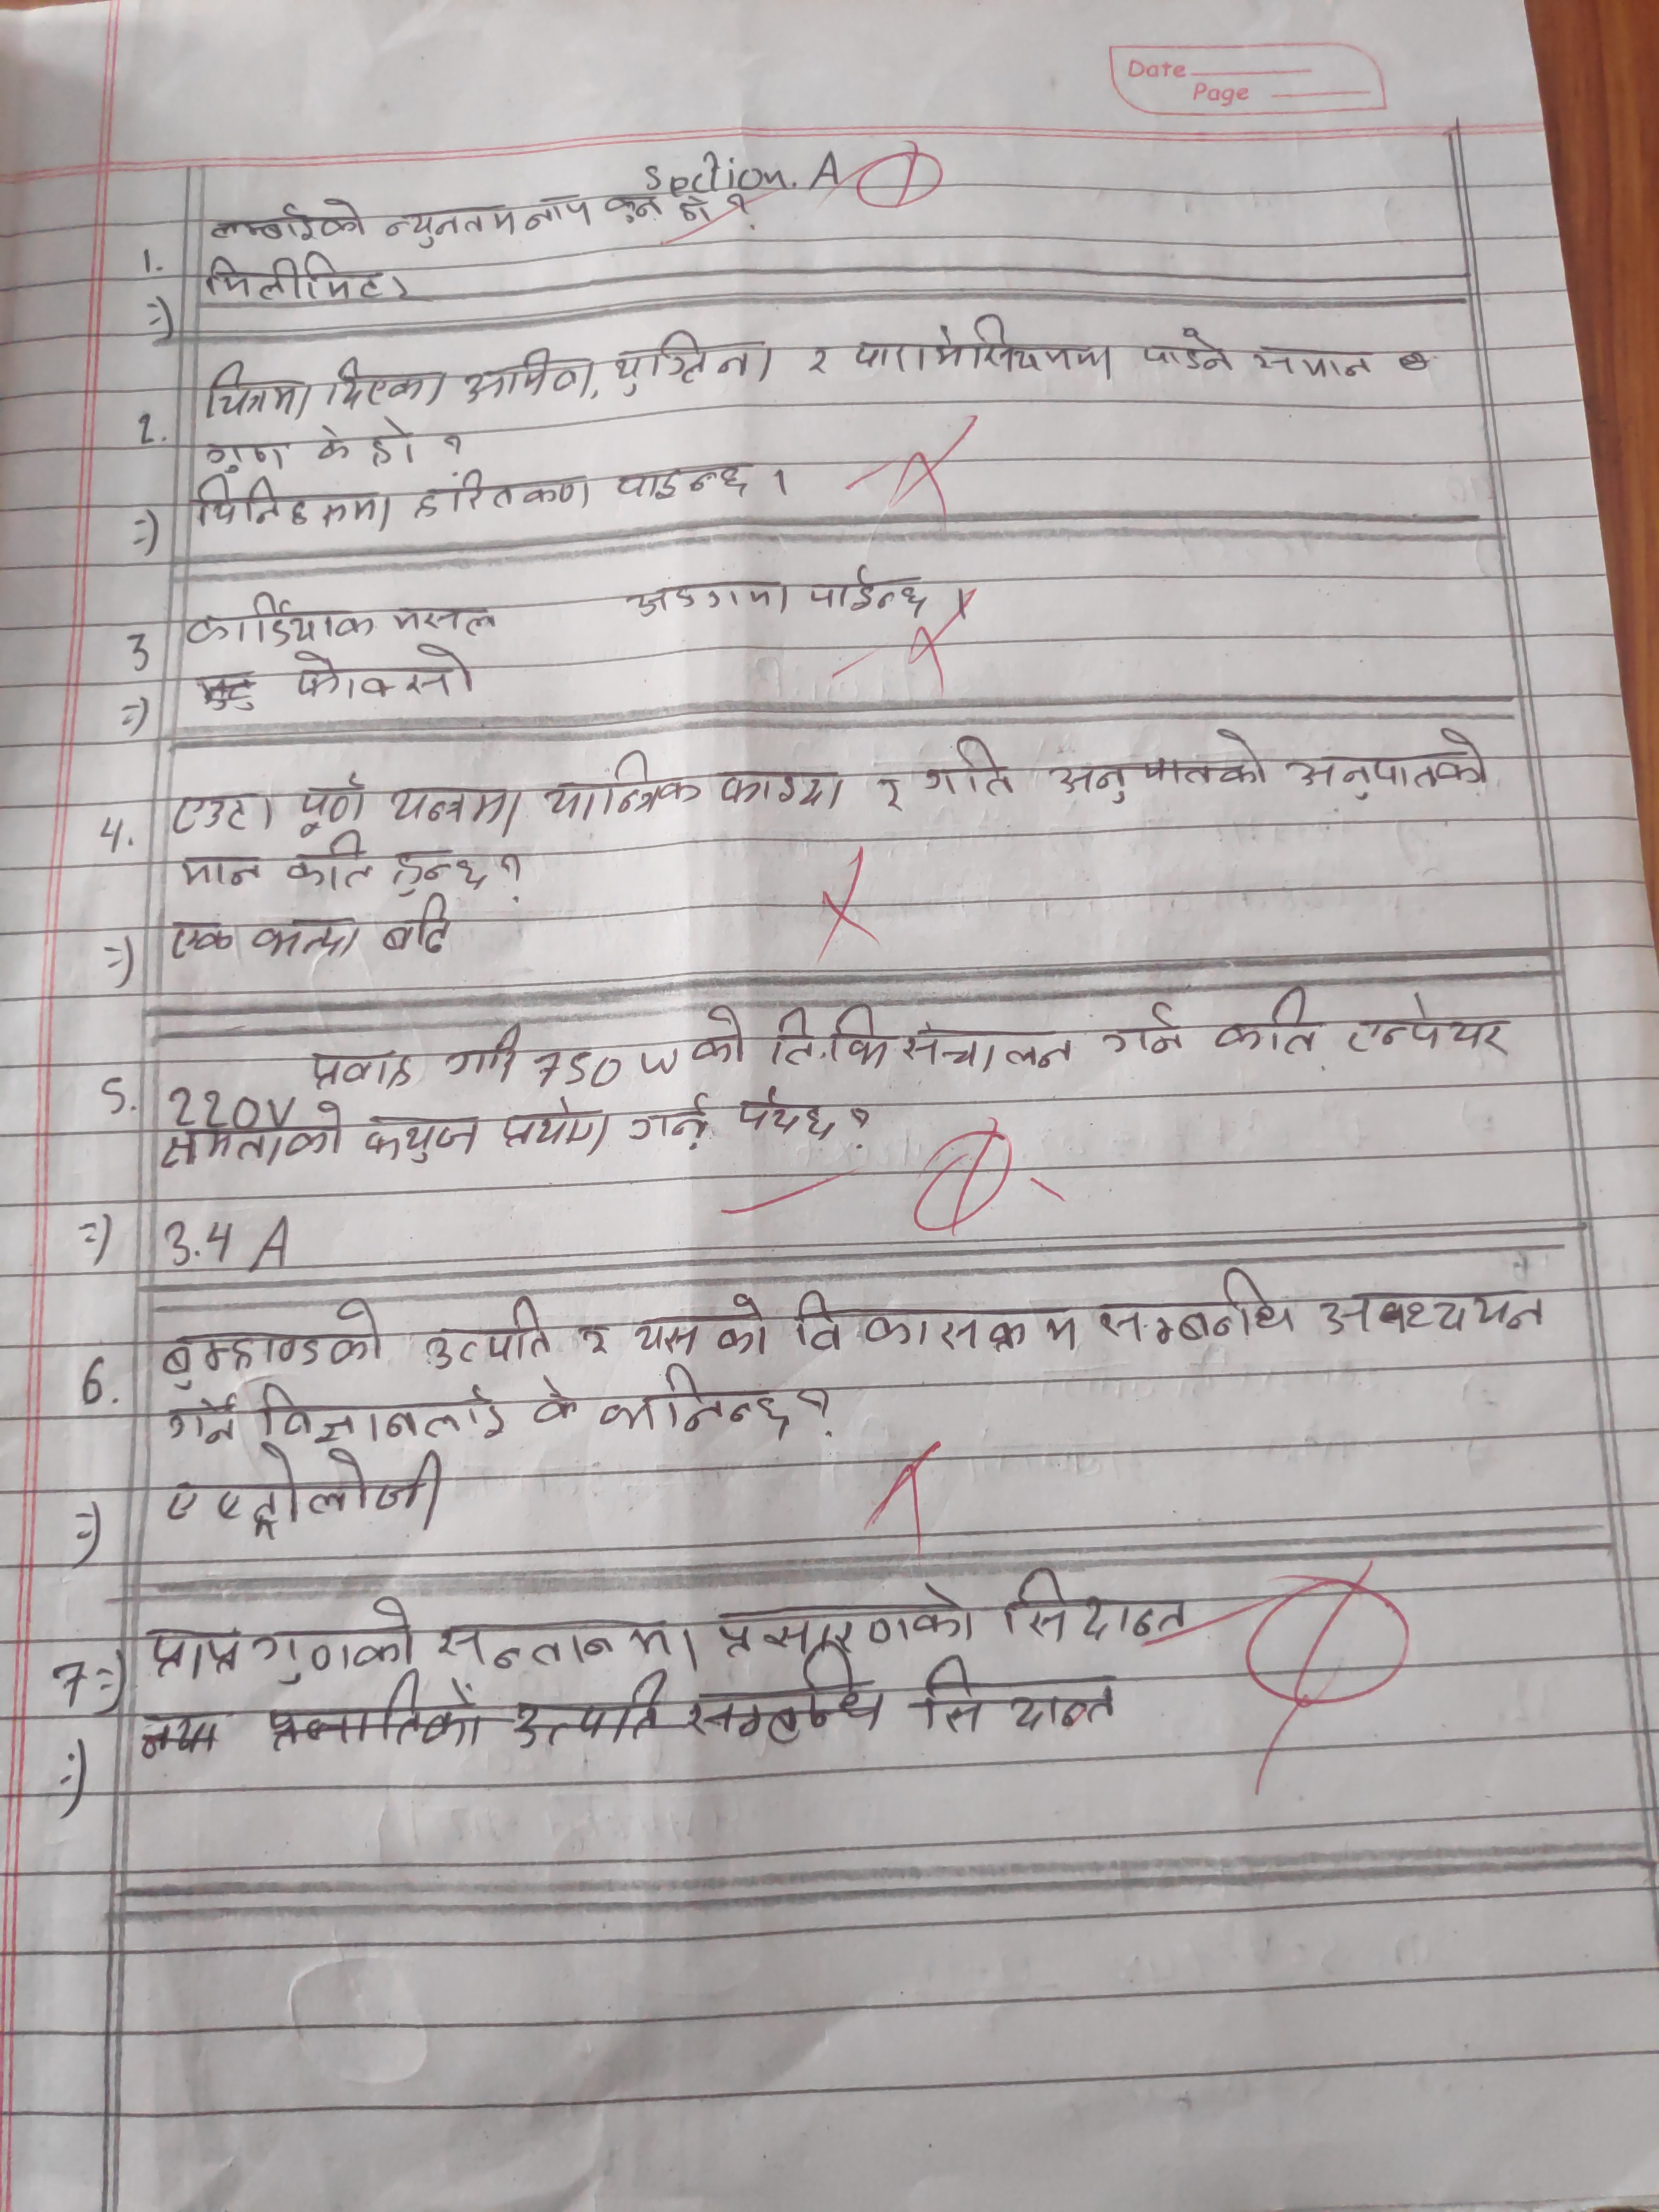text: (160, 1449, 451, 1538), (143, 1601, 416, 1683), (146, 1301, 392, 1388), (793, 1285, 1080, 1355), (709, 1580, 983, 1651), (683, 1649, 885, 1740), (854, 314, 1121, 381), (592, 1360, 796, 1449), (251, 1379, 511, 1449), (258, 1679, 491, 1756), (1046, 726, 1269, 805), (910, 1651, 1121, 1733), (1091, 1268, 1300, 1346), (999, 1566, 1195, 1646), (1283, 732, 1499, 799), (1314, 1285, 1554, 1345), (188, 474, 396, 540), (427, 1620, 701, 1669), (535, 745, 708, 820), (1345, 993, 1518, 1064), (514, 1669, 664, 1749), (148, 1104, 343, 1165), (606, 329, 775, 397), (183, 587, 376, 646), (192, 247, 396, 303), (281, 648, 479, 702), (418, 1296, 559, 1371), (897, 1019, 1079, 1076), (627, 1292, 775, 1357), (399, 470, 592, 519), (770, 1001, 894, 1076), (1204, 988, 1328, 1062), (457, 343, 601, 402), (795, 561, 934, 620), (709, 761, 852, 819), (387, 784, 532, 840), (197, 355, 315, 421), (615, 575, 798, 617), (197, 199, 369, 242), (317, 354, 451, 409), (603, 455, 762, 502), (915, 732, 1019, 799), (356, 1108, 479, 1163), (732, 1087, 842, 1150), (136, 1698, 230, 1771), (497, 1094, 612, 1153), (378, 202, 523, 249), (1248, 331, 1382, 381), (159, 786, 279, 841), (246, 909, 368, 961), (617, 1090, 716, 1151), (281, 831, 378, 892), (301, 1043, 416, 1094), (291, 770, 371, 840), (387, 843, 493, 894), (157, 1390, 242, 1453), (1138, 324, 1234, 380), (382, 599, 502, 643), (1100, 1000, 1187, 1059), (380, 890, 455, 958), (681, 1005, 756, 1068), (444, 1026, 523, 1085), (171, 852, 268, 890), (525, 1371, 584, 1433), (361, 415, 422, 474), (197, 439, 291, 477), (160, 918, 237, 965), (523, 186, 592, 237), (598, 188, 669, 225), (674, 186, 723, 239), (857, 772, 910, 819), (305, 416, 352, 463), (566, 1317, 612, 1360), (805, 333, 833, 387)
